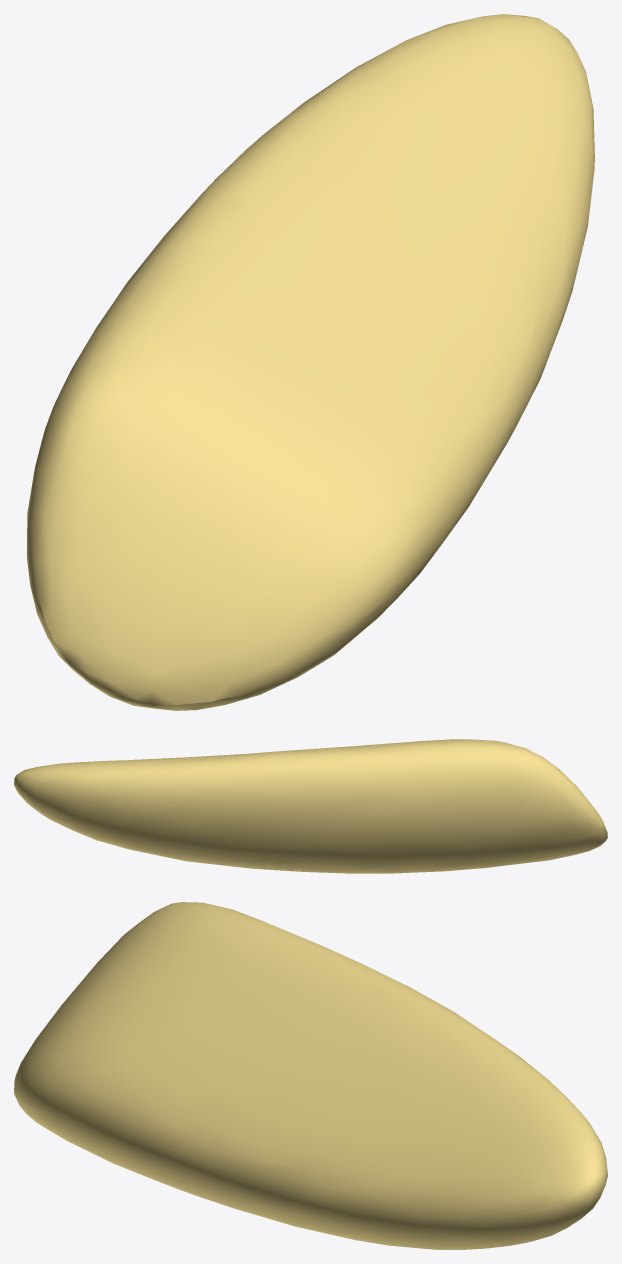
Rendered from fma76772-l_mm2932.glb.
The picture shows the model from 3 angles, top to bottom: view 1: azimuth 30°, elevation 25°; view 2: azimuth 150°, elevation 25°; view 3: azimuth 270°, elevation 25°; orthographic projection. The views are drawn at different scales.
Parts seen in each view (by area): view 1: FMA76772-L_MM2932; view 2: FMA76772-L_MM2932; view 3: FMA76772-L_MM2932.
Part boxes in pixels (box(x1,y1,x2,y2)): FMA76772-L_MM2932: box(27, 14, 594, 710); FMA76772-L_MM2932: box(14, 739, 607, 873); FMA76772-L_MM2932: box(14, 902, 607, 1249).
Size of the model in its own units: 0.00615 by 0.00204 by 0.00507.
